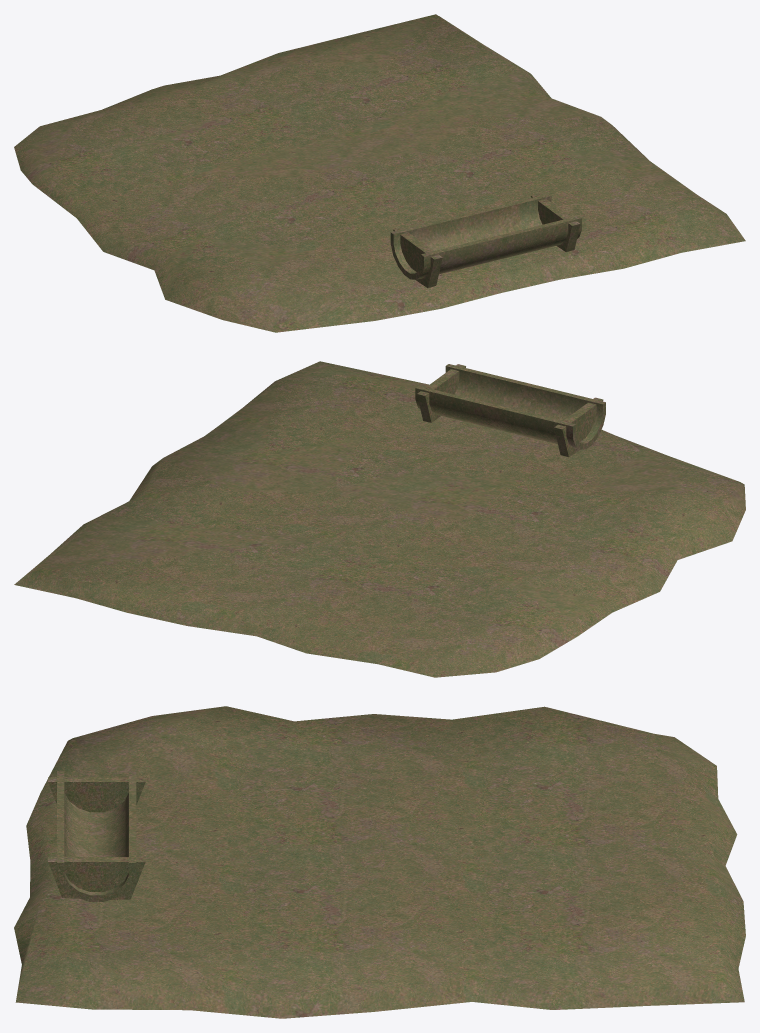
The model's file is ground.fbx.
3 renders of one model, top to bottom at view 1: azimuth 30°, elevation 25°; view 2: azimuth 150°, elevation 25°; view 3: azimuth 270°, elevation 25°, orthographic. The views are drawn at different scales.
Parts seen in each view (by area): view 1: Ground.002, Ground.004; view 2: Ground.002, Ground.004; view 3: Ground.002, Ground.004.
Part boxes in pixels (box(x1,y1,x2,y2)): Ground.002: box(14, 14, 745, 332); Ground.004: box(390, 193, 581, 287); Ground.002: box(14, 361, 745, 677); Ground.004: box(415, 364, 605, 457); Ground.002: box(14, 706, 745, 1018); Ground.004: box(48, 771, 145, 901).
Size of what is drawn, in the model's own units: 5.04 by 0.4849 by 5.22.
